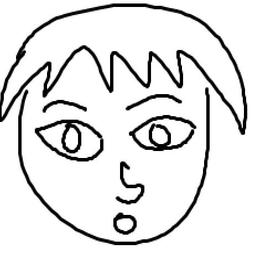eye: (30, 117, 106, 165), (125, 112, 198, 152)
eyebrow: (123, 91, 183, 110), (39, 95, 88, 116)
nose: (110, 157, 148, 206)
open_mouth: (113, 213, 137, 235)
